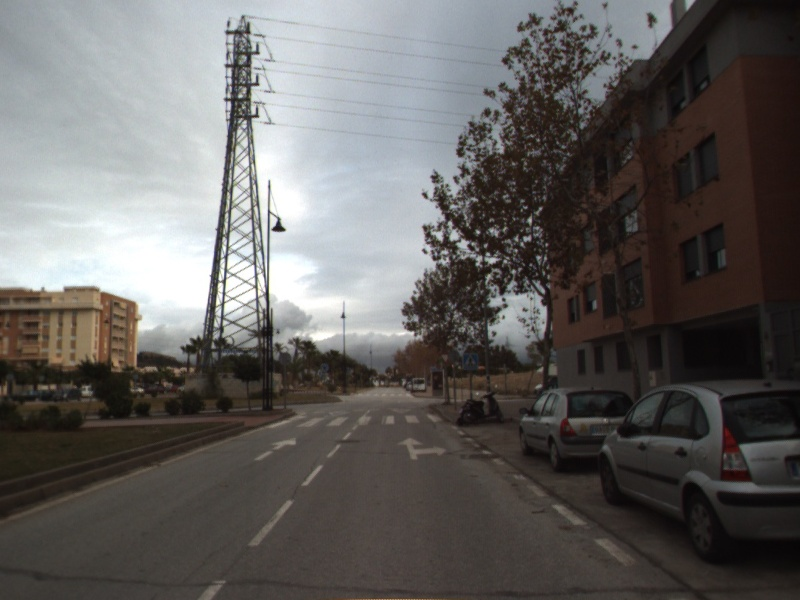STRAIGHT: (252, 436, 298, 462)
STRAIGHT_RIGHT: (395, 435, 448, 461)
